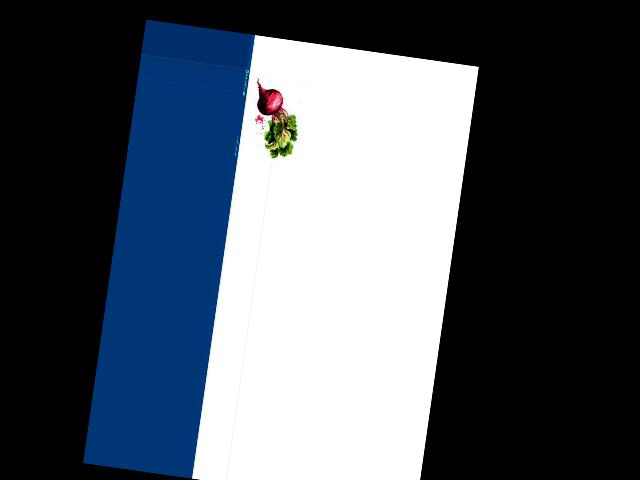beet: (246, 79, 304, 161)
